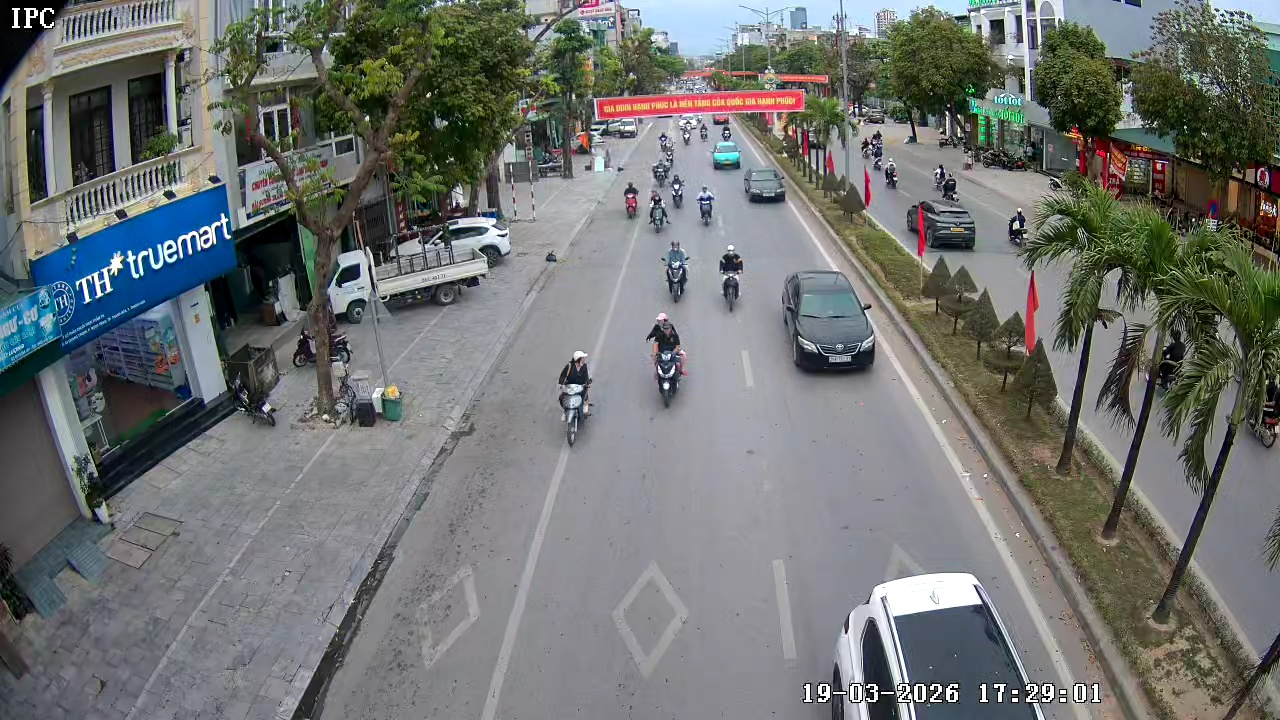car: (812, 571, 1053, 719), (781, 267, 877, 372), (904, 196, 979, 251), (742, 164, 786, 203), (710, 138, 743, 171)
motorbike: (644, 311, 688, 409), (556, 348, 598, 447), (660, 238, 691, 303), (718, 242, 746, 313), (647, 189, 669, 233), (1007, 207, 1027, 250), (622, 180, 642, 221), (697, 184, 716, 226), (656, 129, 674, 169), (670, 169, 687, 210), (884, 157, 900, 191)
